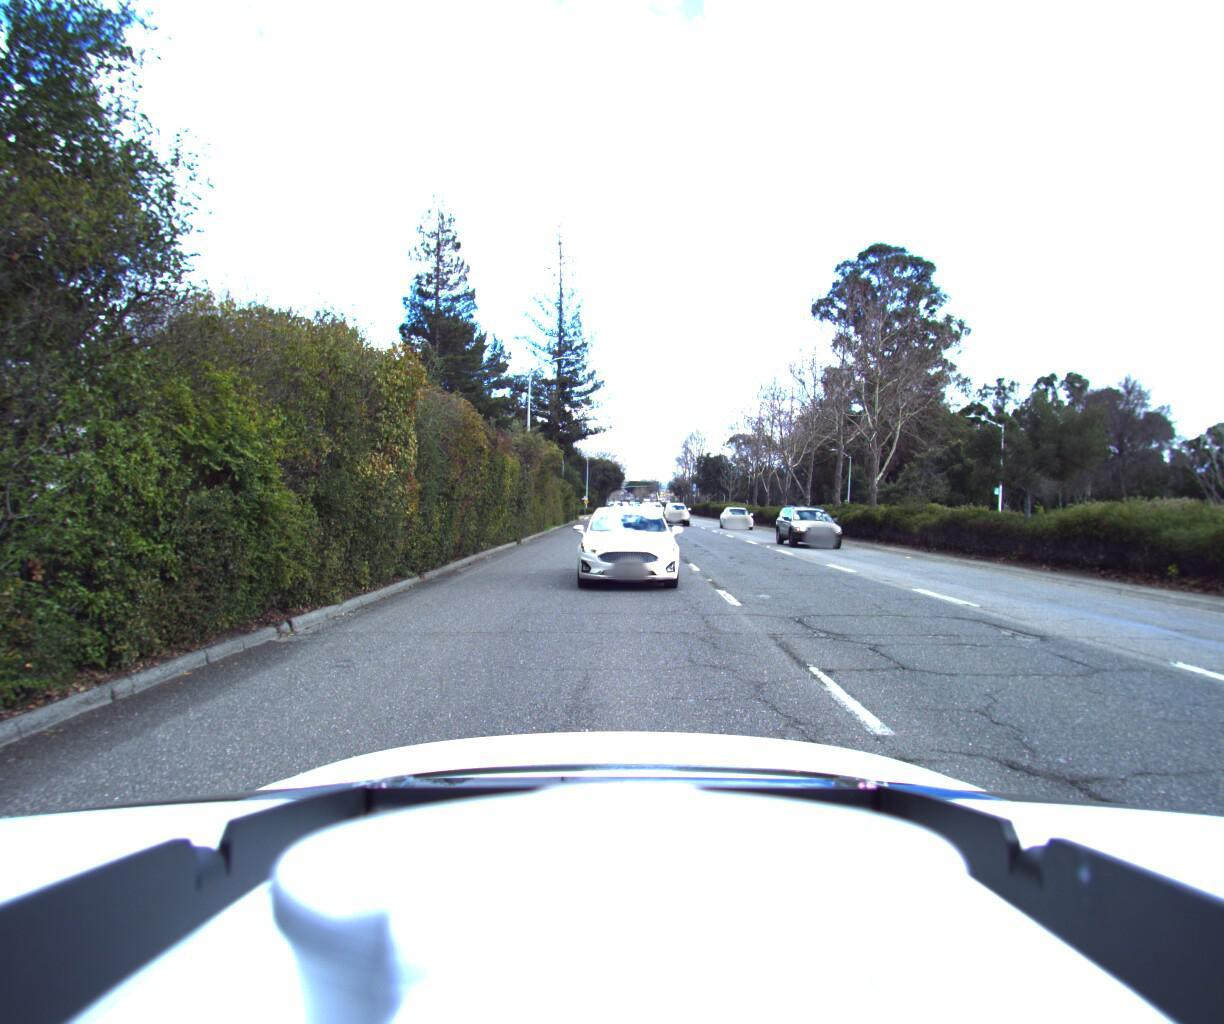car: (560, 499, 689, 604), (775, 503, 858, 554), (718, 502, 761, 532), (605, 500, 639, 529), (659, 500, 693, 529), (642, 503, 664, 520)
